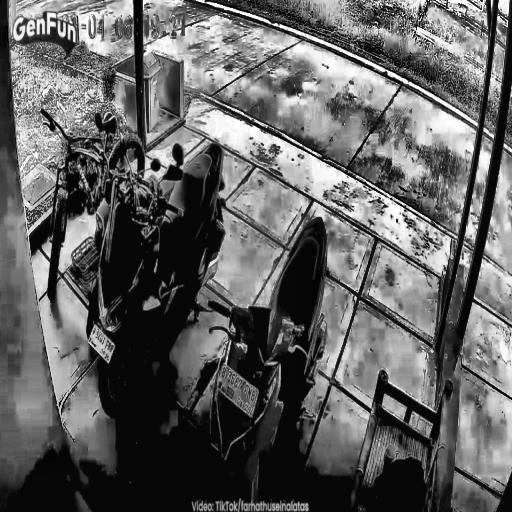aman: (185, 16, 476, 505), (453, 151, 512, 505)
